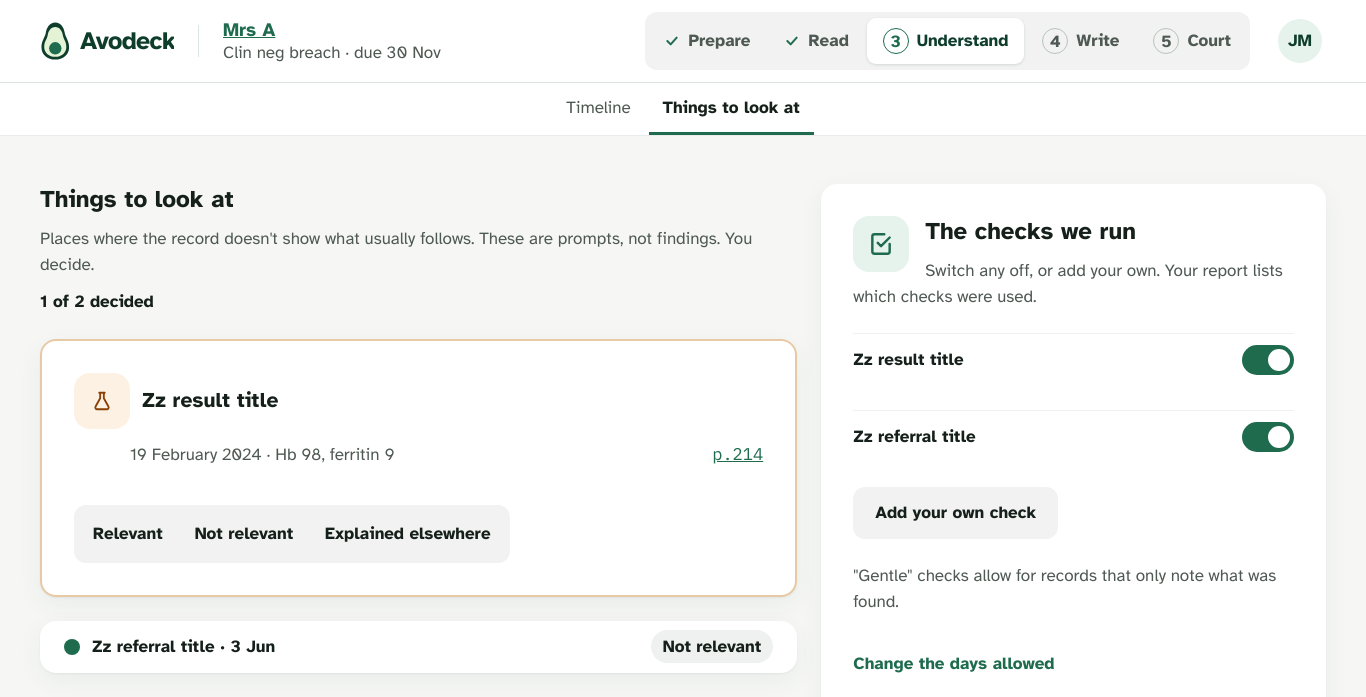
Test: S13 titles, icons and decided findings › a decided finding is folded into one line with its title, date and decision, and opens to change it
expect the element "Zz result title" is shown: met, box [40,338,797,596]
expect the text "Not relevant" is shown: met, box [651,630,773,663]
Click the text "Zz referral title · 3 Jun".
click(184, 646)  # box [92,636,275,657]
(page scrolled)
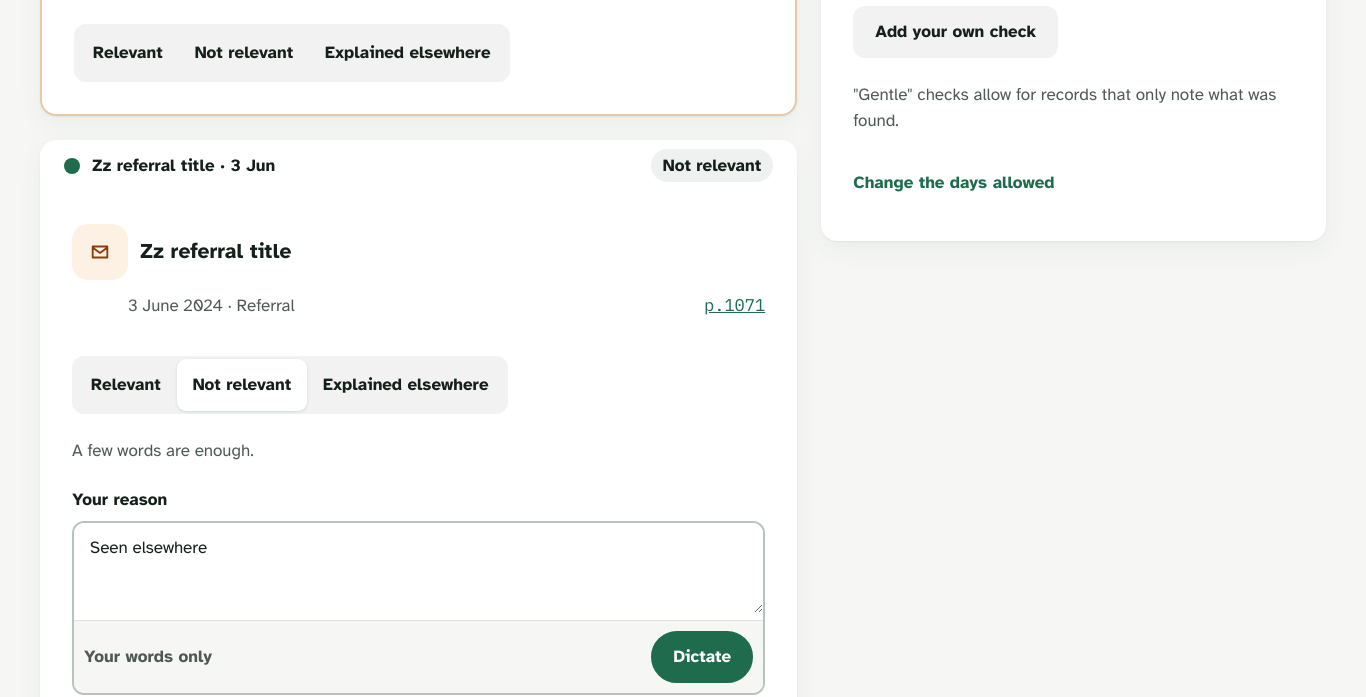
expect the button "Relevant" below "3 June 2024 · Referral" is shown: met, box [75,358,177,410]
